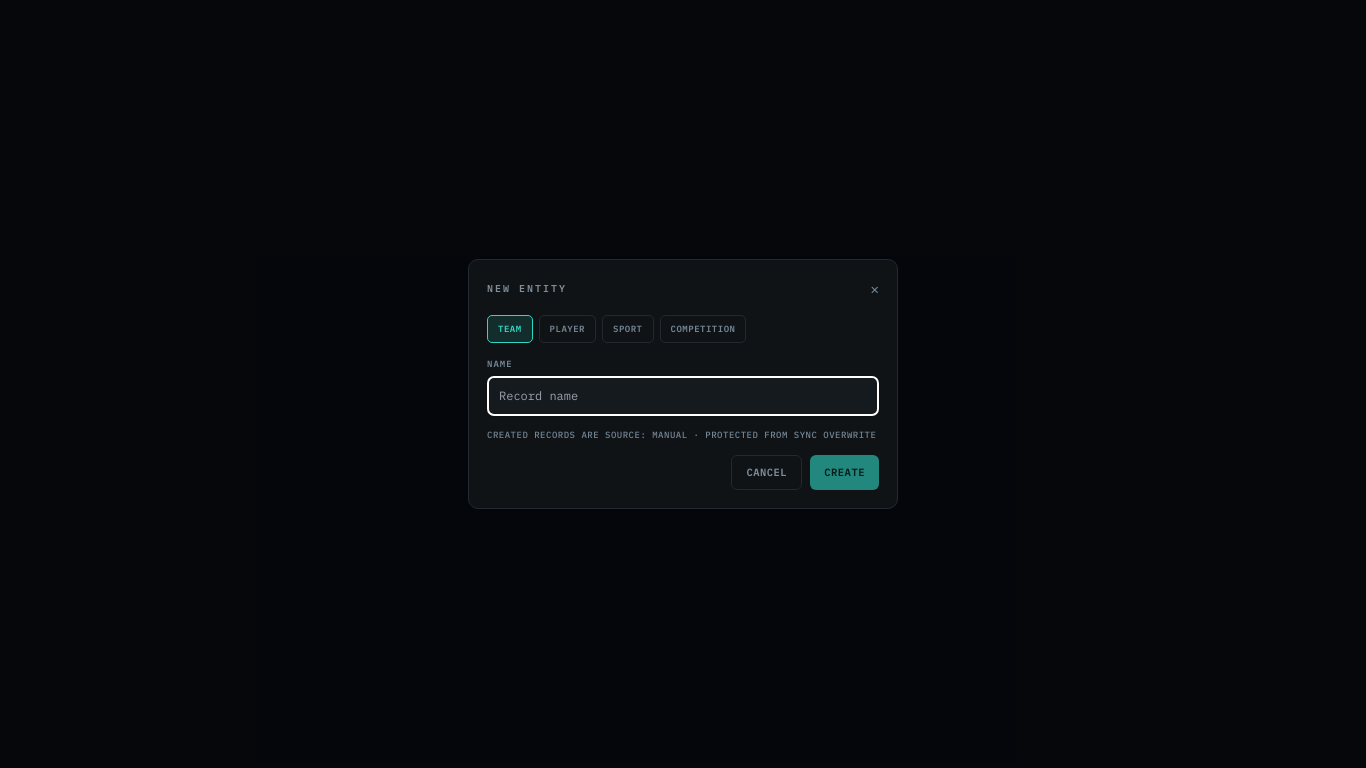
Scenario: RegistryCreateModal — chrome + kind chips › per-kind fields render: player/competition → sport select; sport → icon; competition → season
The width and height of the screenshot is (1366, 768).
Click the button "SPORT" at (628, 329), box [602, 315, 654, 343]
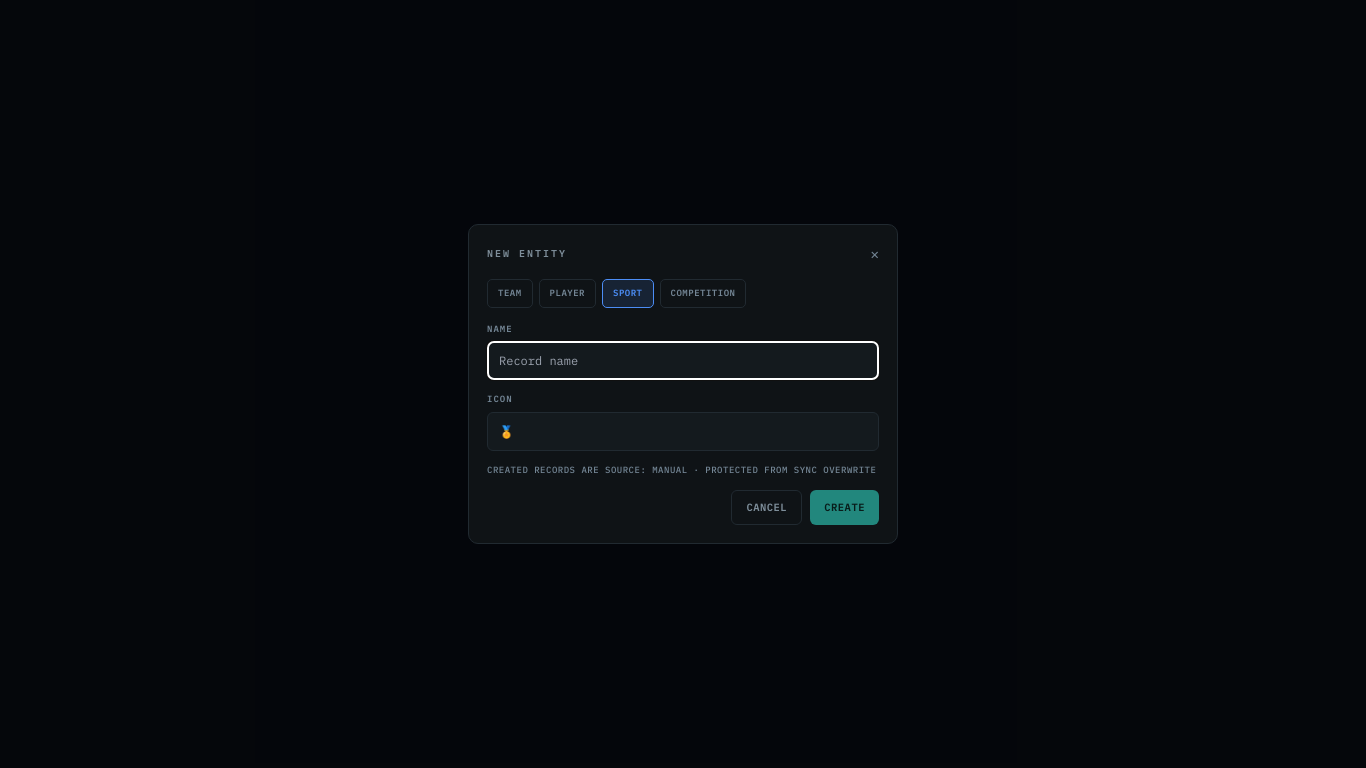
Now the field with test id "ops-create-icon" is shown, box [487, 412, 879, 451]
Click the button "COMPETITION" at (703, 294), box [660, 279, 746, 308]
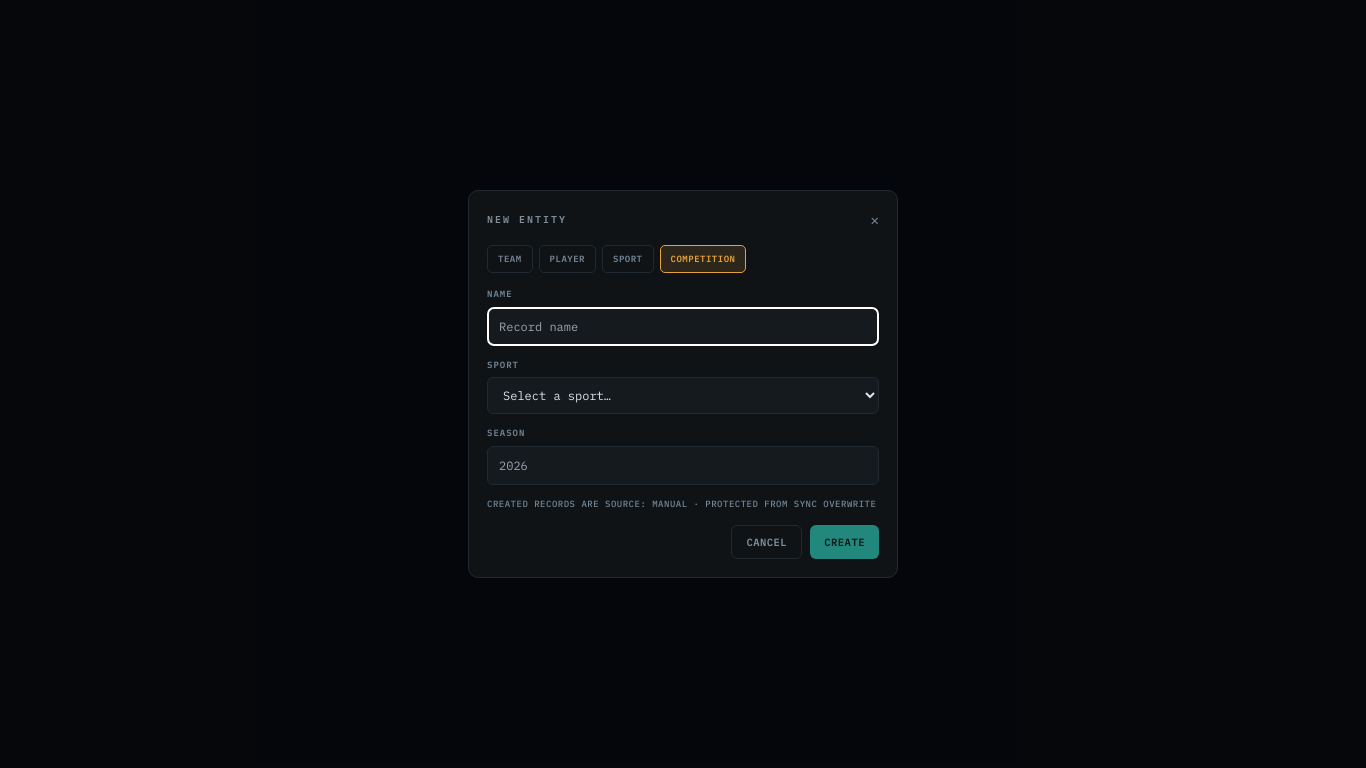
Now the dropdown with test id "ops-create-sport" is shown, box [487, 377, 879, 414]
Now the field with test id "ops-create-season" is shown, box [487, 446, 879, 485]
Click the button "TEAM" at (510, 259), box [487, 245, 533, 274]
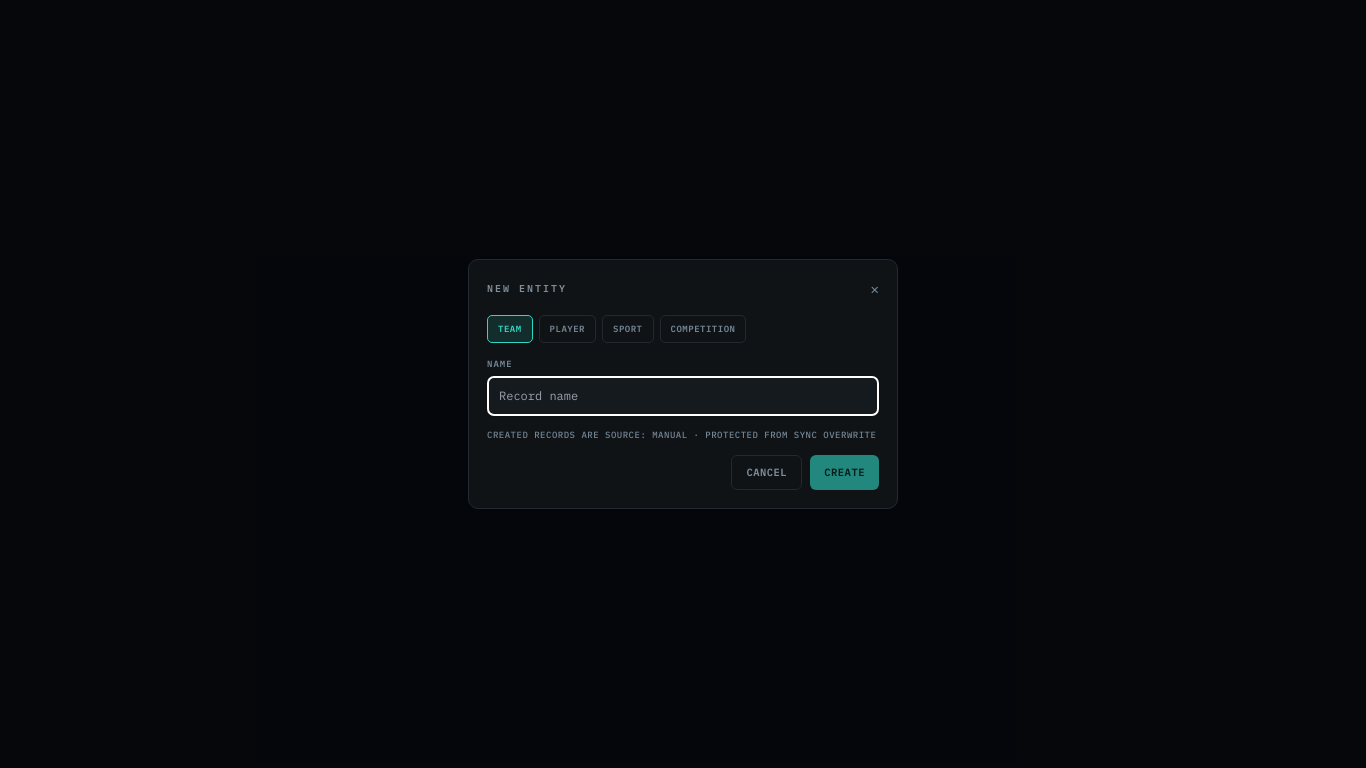
Now the dropdown with test id "ops-create-sport" is gone
